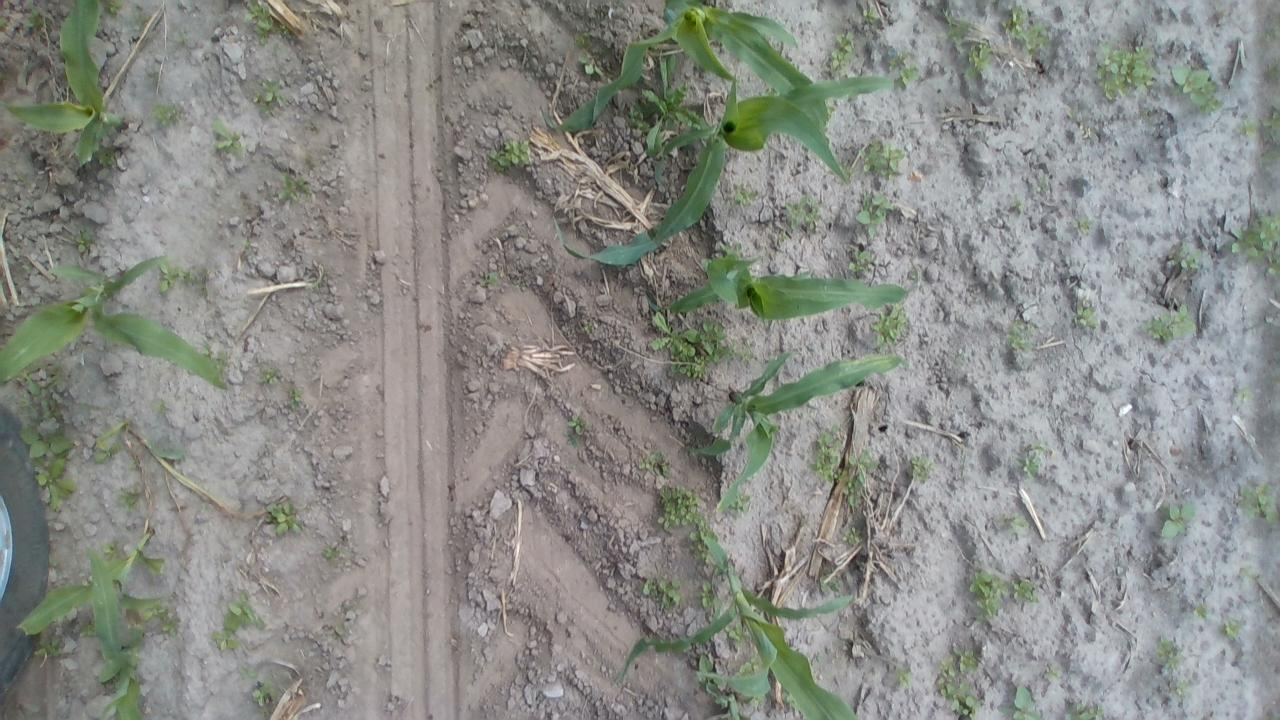Maize: (546, 72, 904, 266), (622, 524, 854, 720), (554, 0, 830, 133), (700, 346, 901, 510), (0, 255, 231, 392), (4, 0, 130, 167), (644, 254, 910, 330), (17, 526, 168, 644), (84, 549, 148, 720)
Weeds: (650, 310, 731, 374), (1098, 47, 1155, 99), (1228, 212, 1280, 265), (1172, 63, 1224, 114), (1153, 633, 1190, 698), (212, 606, 265, 650), (1236, 478, 1277, 530), (36, 458, 74, 514), (18, 424, 75, 460), (970, 569, 1006, 618), (658, 484, 698, 528), (1151, 304, 1195, 342), (848, 450, 876, 509), (696, 654, 726, 705), (1009, 10, 1046, 48), (871, 304, 908, 342), (492, 139, 530, 173), (642, 576, 682, 608), (267, 502, 302, 538), (252, 72, 286, 108), (1160, 501, 1194, 537), (785, 195, 822, 228), (827, 31, 855, 74), (866, 144, 901, 178), (212, 122, 245, 156), (246, 1, 276, 38), (816, 430, 838, 480), (18, 372, 60, 397), (690, 523, 718, 559), (1012, 684, 1040, 720), (858, 193, 888, 226), (160, 259, 190, 292), (1242, 109, 1278, 136), (1021, 441, 1046, 478), (1176, 241, 1206, 270), (636, 450, 670, 475), (1068, 698, 1106, 720), (144, 604, 176, 630), (279, 175, 312, 200), (964, 42, 988, 75), (937, 664, 961, 696), (1011, 322, 1036, 352), (1012, 579, 1038, 605), (700, 579, 720, 612), (911, 454, 933, 484), (951, 646, 978, 670), (849, 249, 874, 274), (1074, 304, 1100, 328), (23, 8, 45, 35), (568, 415, 587, 445), (41, 634, 66, 656), (96, 440, 119, 463), (956, 694, 978, 718), (896, 662, 916, 688), (894, 60, 916, 83), (250, 685, 275, 705), (734, 656, 761, 674), (322, 543, 345, 564), (153, 104, 179, 122), (736, 186, 758, 207), (119, 488, 140, 508), (724, 620, 745, 640), (75, 231, 93, 254), (100, 0, 122, 18), (1006, 512, 1026, 531), (842, 526, 859, 546), (80, 616, 96, 636), (862, 7, 878, 26), (1223, 620, 1239, 638), (1194, 600, 1210, 617), (1045, 662, 1061, 678), (1077, 219, 1093, 232), (289, 387, 302, 403), (264, 370, 278, 384), (1011, 196, 1024, 211)
